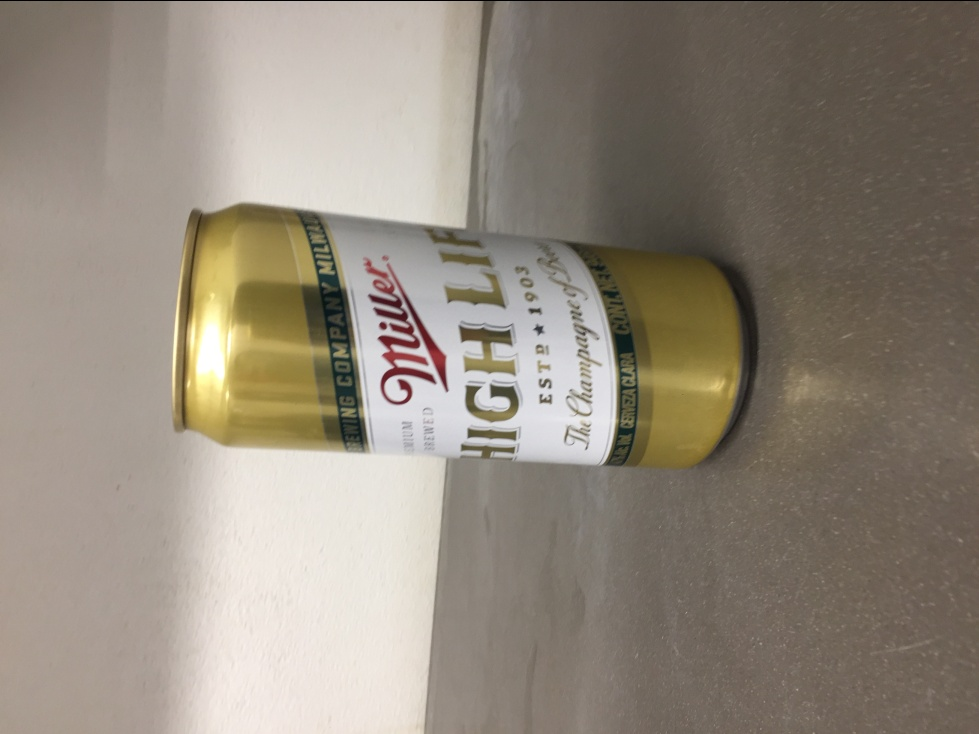miller: (167, 193, 762, 474)
